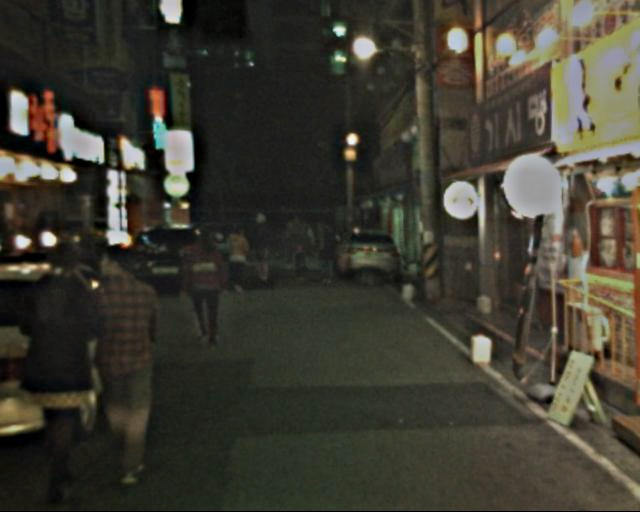person: (82, 244, 177, 473), (26, 232, 107, 493), (182, 222, 232, 353), (223, 217, 257, 295), (249, 209, 279, 285), (286, 211, 311, 285), (316, 222, 341, 291)
